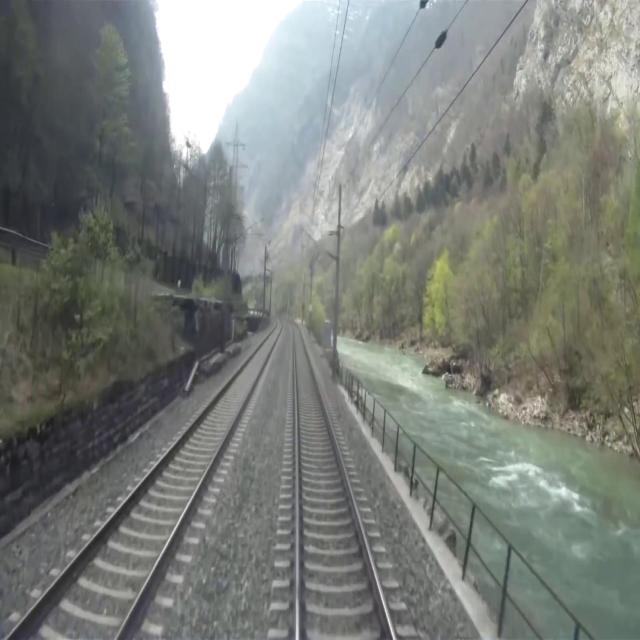rail-track: (13, 320, 280, 639), (293, 324, 390, 639)
